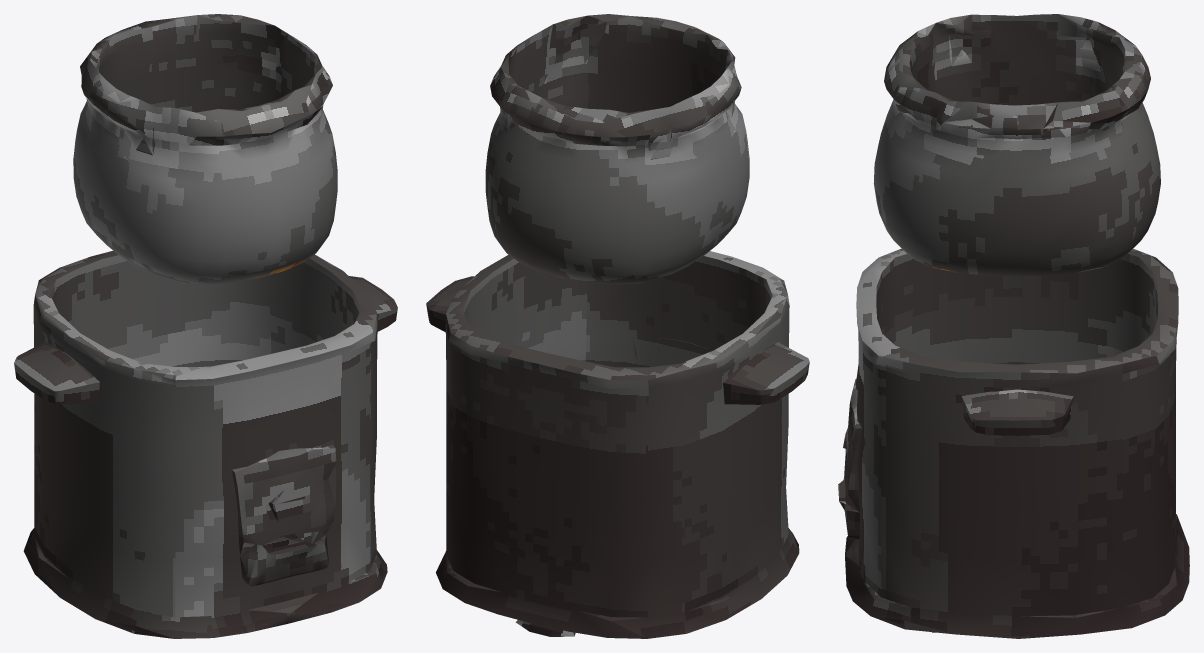
Rendered from rice_cooker.glb.
The picture shows the model from 3 angles, left to right: view 1: azimuth 30°, elevation 25°; view 2: azimuth 150°, elevation 25°; view 3: azimuth 270°, elevation 25°; orthographic projection.
Visible parts, largest first — view 1: mesh; view 2: mesh; view 3: mesh.
Part boxes in pixels (x1,y1,x2,y2): mesh: [14, 14, 397, 638]; mesh: [426, 14, 809, 638]; mesh: [838, 14, 1189, 638].
Bounding box in the file's own units: 0.1855 × 0.26 × 0.1577.
Materials: 1 (1 with a texture image).
